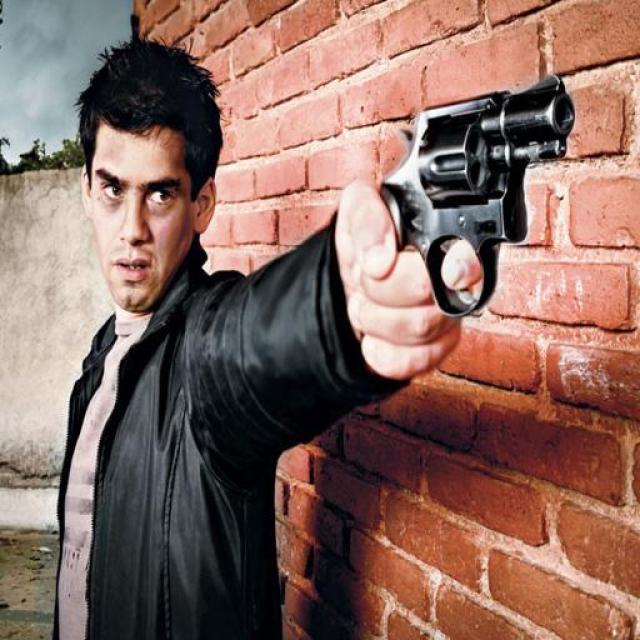pistol: (372, 66, 575, 320)
